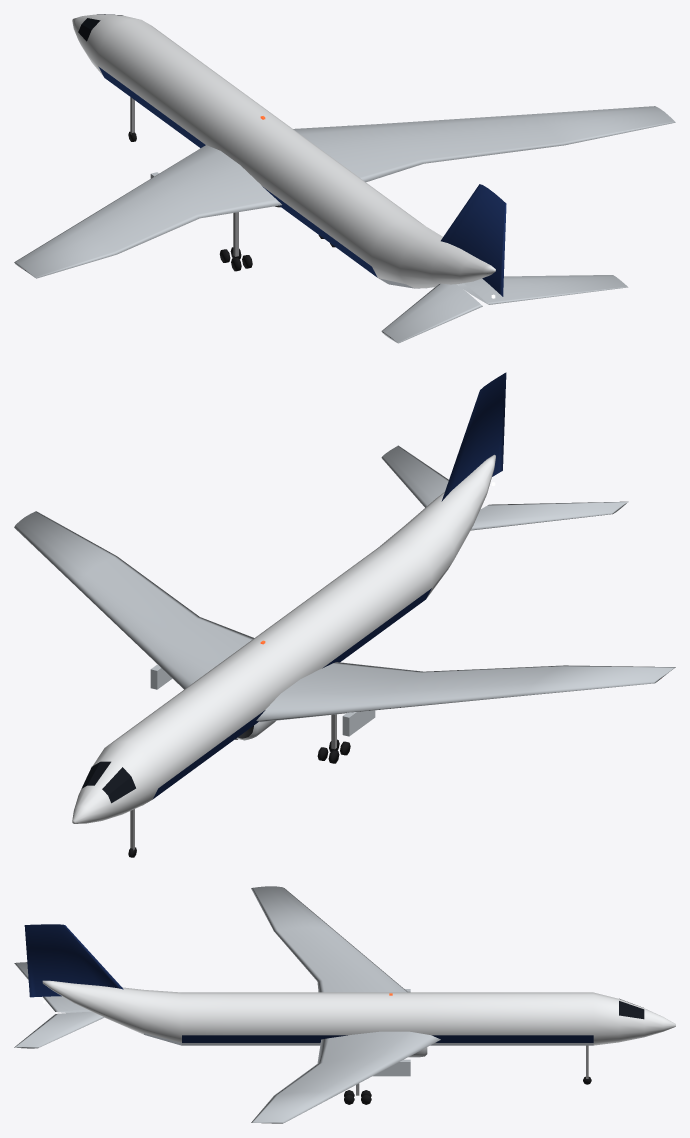
3 renders of one model, top to bottom at view 1: azimuth 30°, elevation 25°; view 2: azimuth 150°, elevation 25°; view 3: azimuth 270°, elevation 25°, orthographic. The views are drawn at different scales.
Visible parts, largest first — view 1: b77w_lod1_wing, b77w_lod1_white, b77w_lod1_blue, b77w_lod1_gear_tyre; view 2: b77w_lod1_wing, b77w_lod1_white, b77w_lod1_blue, b77w_lod1_glass; view 3: b77w_lod1_white, b77w_lod1_wing, b77w_lod1_blue, b77w_lod1_belly.
Part boxes in pixels (x1,y1,x2,y2): b77w_lod1_wing: (14,106,675,343); b77w_lod1_white: (72,14,495,288); b77w_lod1_blue: (98,66,506,296); b77w_lod1_gear_tyre: (128,131,335,271); b77w_lod1_wing: (14,445,675,736); b77w_lod1_white: (72,454,495,823); b77w_lod1_blue: (152,372,506,799); b77w_lod1_glass: (81,761,135,803); b77w_lod1_white: (42,980,675,1045); b77w_lod1_wing: (14,886,440,1123); b77w_lod1_blue: (24,924,593,1042); b77w_lod1_belly: (144,1033,593,1045).
Bounding box in the file's own units: 64.8 × 20.49 × 77.19.
